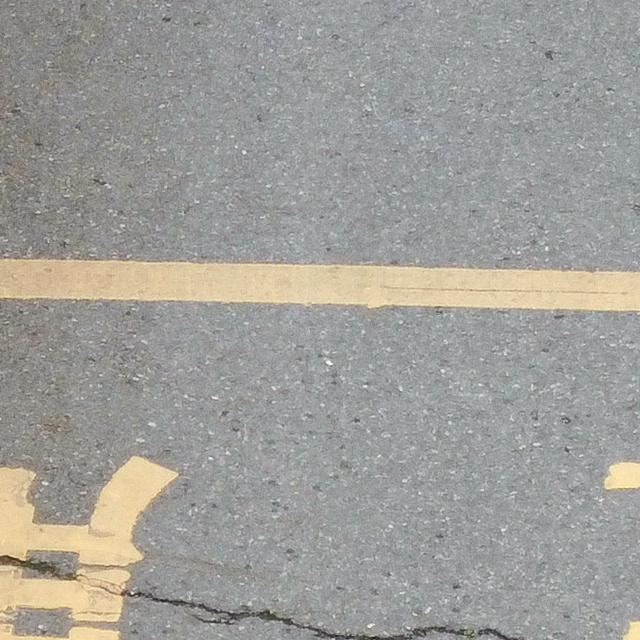TransverseCrack: (1, 554, 522, 640)
